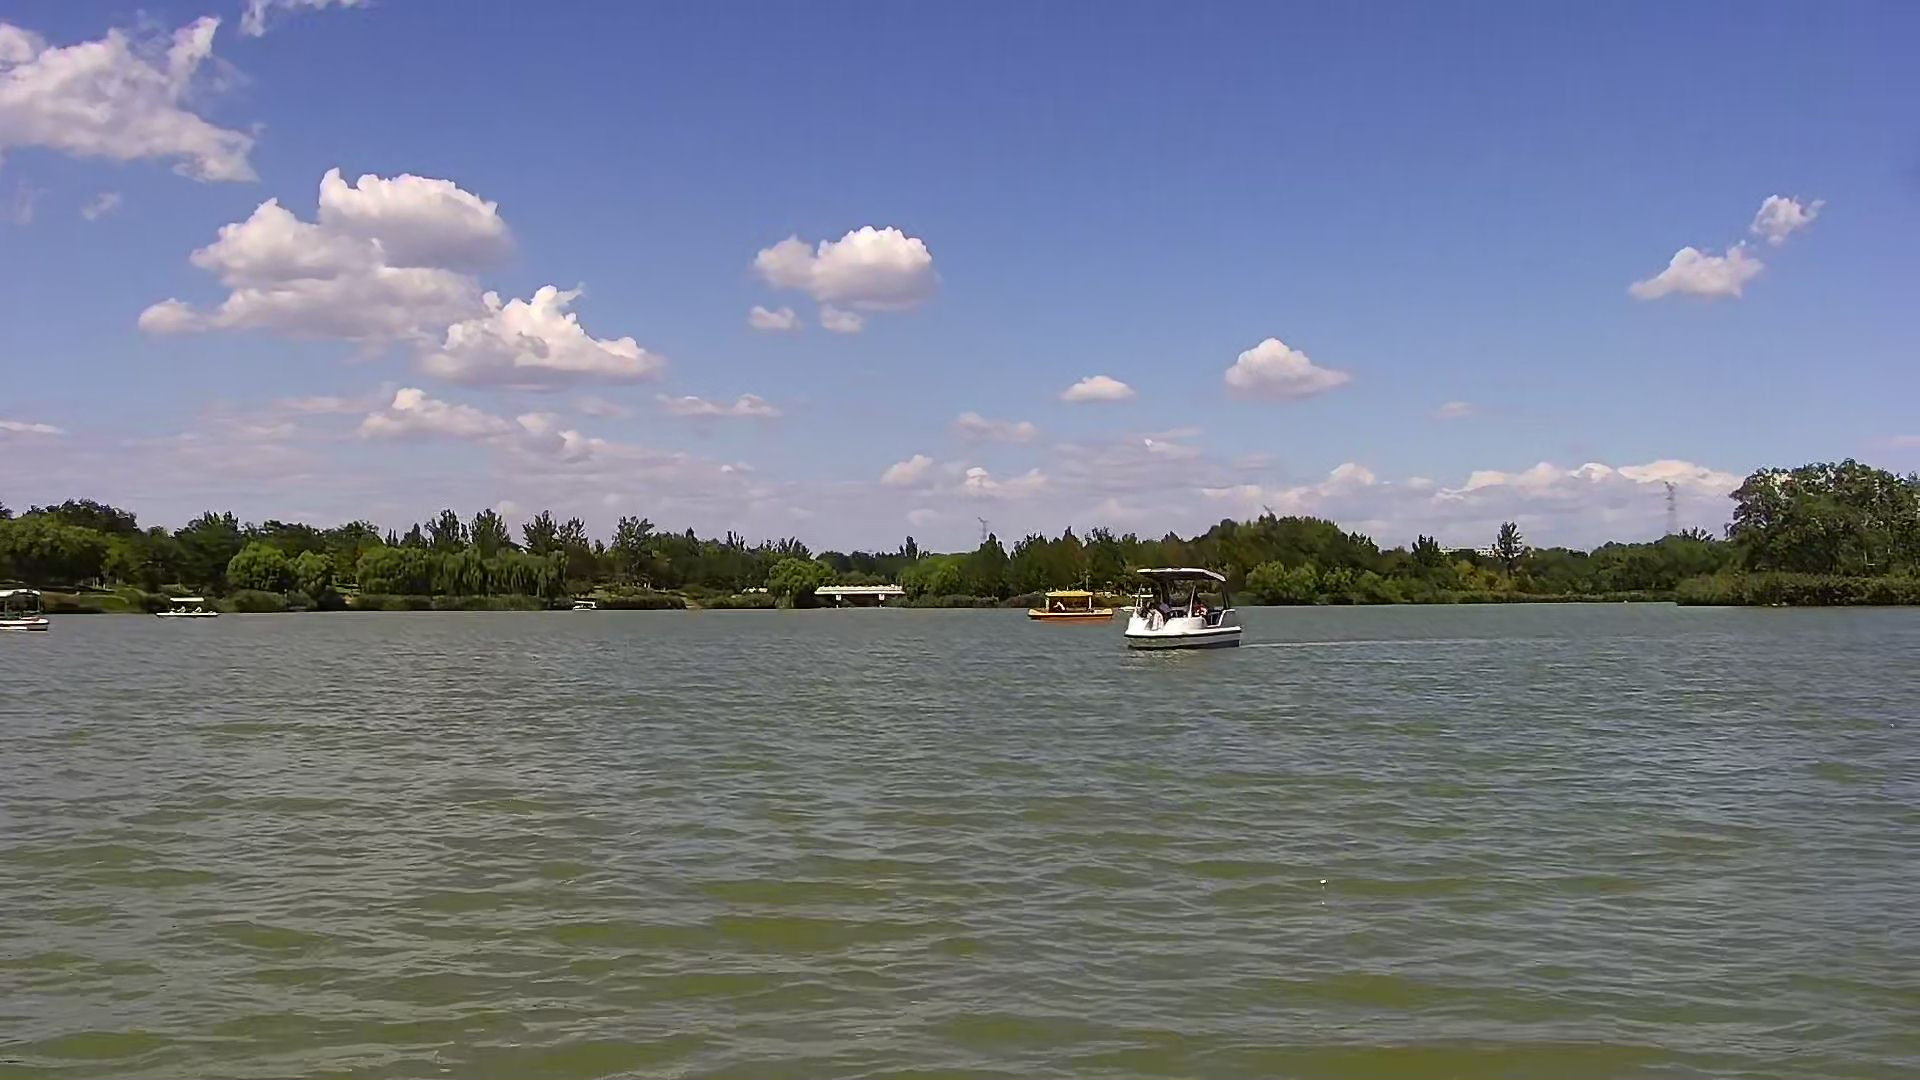boat: (1126, 564, 1240, 657), (1029, 587, 1112, 620), (3, 583, 47, 632), (152, 597, 218, 622)
bridge: (814, 580, 901, 608)
